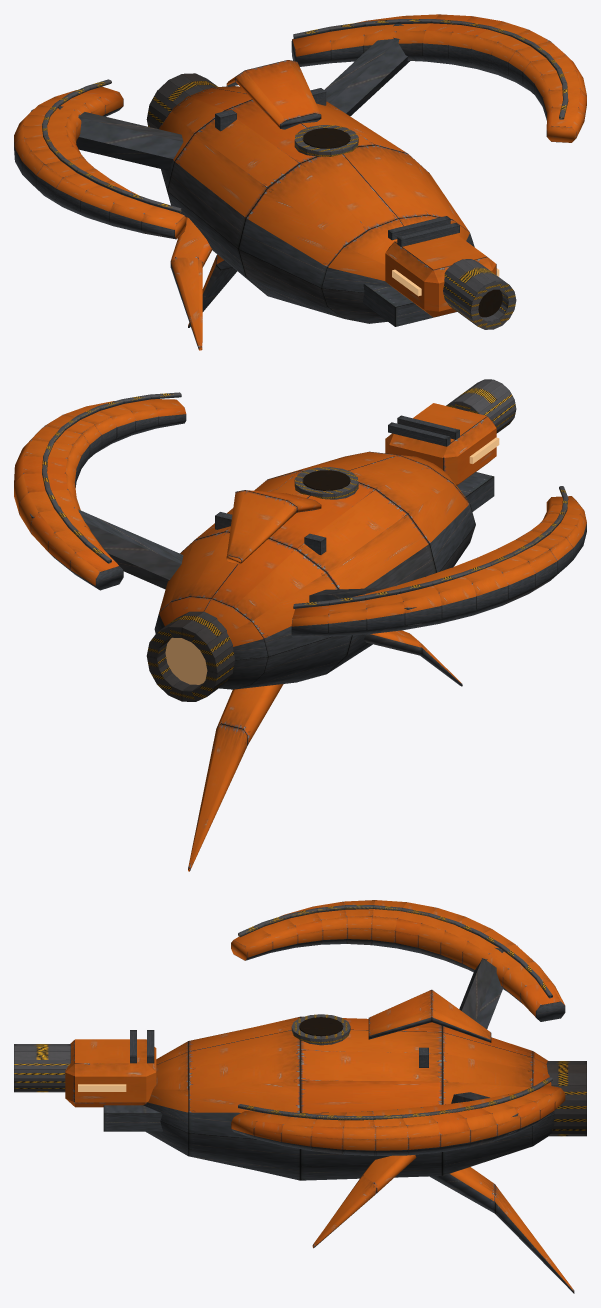
The model's file is pioneer-saturn-l06-laser.glb.
3 views of the same model, one above another, from view 1: azimuth 30°, elevation 25°; view 2: azimuth 150°, elevation 25°; view 3: azimuth 270°, elevation 25° (orthographic). The views are drawn at different scales.
Parts seen in each view (by area): view 1: Drone; view 2: Drone; view 3: Drone.
Part boxes in pixels (<box>): Drone: <box>14,14,586,350</box>; Drone: <box>14,379,586,871</box>; Drone: <box>14,900,586,1293</box>.
Size of the model in its own units: 1.4 by 0.82 by 1.45.
Materials: 3 (3 with a texture image).
